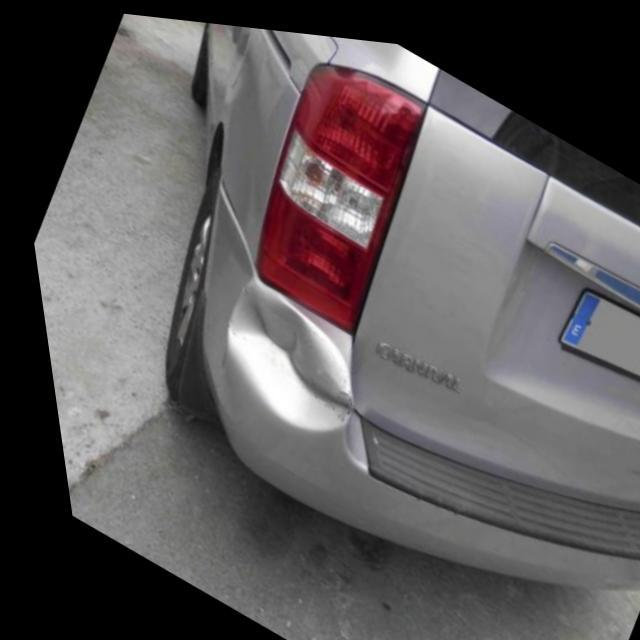dent: (218, 274, 345, 424)
